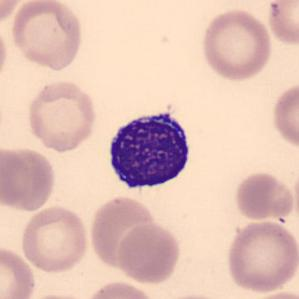Lymphocyte: (101, 105, 196, 195)
RBC: (198, 7, 274, 82), (24, 78, 100, 153), (223, 218, 298, 294), (87, 194, 160, 270), (8, 0, 85, 71), (18, 204, 91, 274), (115, 221, 182, 285), (1, 144, 57, 213), (232, 170, 296, 222), (269, 80, 299, 152), (0, 244, 37, 299), (264, 0, 299, 49), (82, 279, 158, 299), (0, 0, 29, 27), (0, 21, 10, 86), (24, 291, 94, 299)
